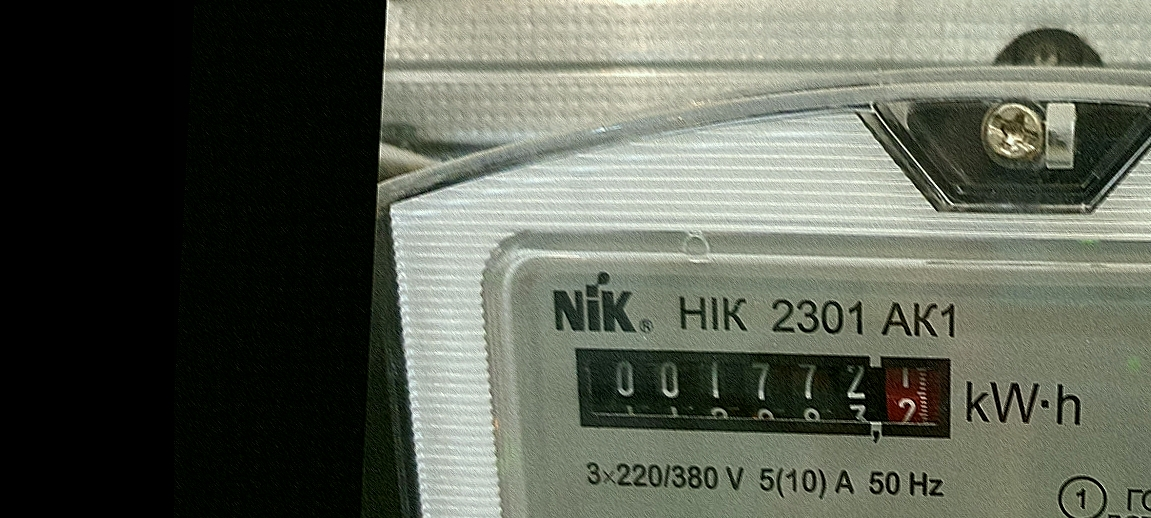0: (610, 356, 639, 398), (658, 358, 683, 398)
1: (706, 359, 725, 399), (899, 365, 913, 391)
2: (844, 363, 869, 401), (894, 395, 918, 424)
3: (848, 402, 870, 424)
7: (749, 360, 773, 402), (796, 361, 819, 401)
screen: (560, 328, 972, 457)
